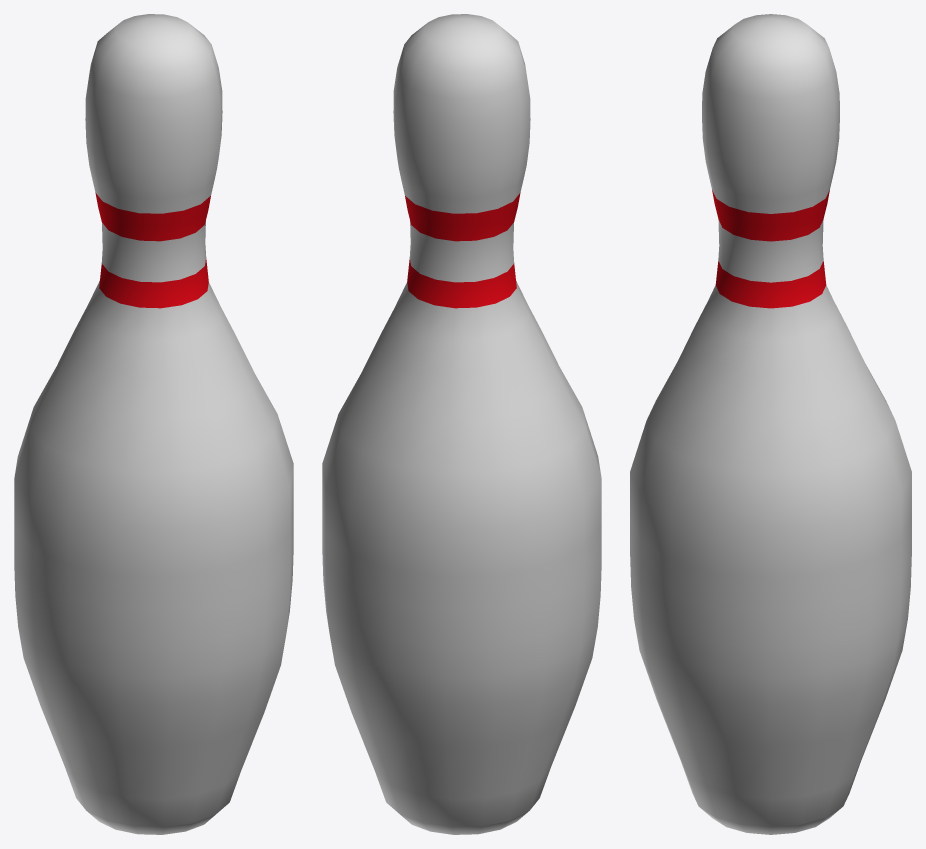
File: lobut.fbx
The picture shows the model from 3 angles, left to right: view 1: azimuth 30°, elevation 25°; view 2: azimuth 150°, elevation 25°; view 3: azimuth 270°, elevation 25°; orthographic projection.
Visible parts, largest first — view 1: Cylinder; view 2: Cylinder; view 3: Cylinder.
Part boxes in pixels (bbox=[...]): Cylinder: bbox=[14, 14, 293, 834]; Cylinder: bbox=[322, 14, 601, 834]; Cylinder: bbox=[630, 14, 911, 834].
Size of the model in its own units: 121 by 377 by 121.
